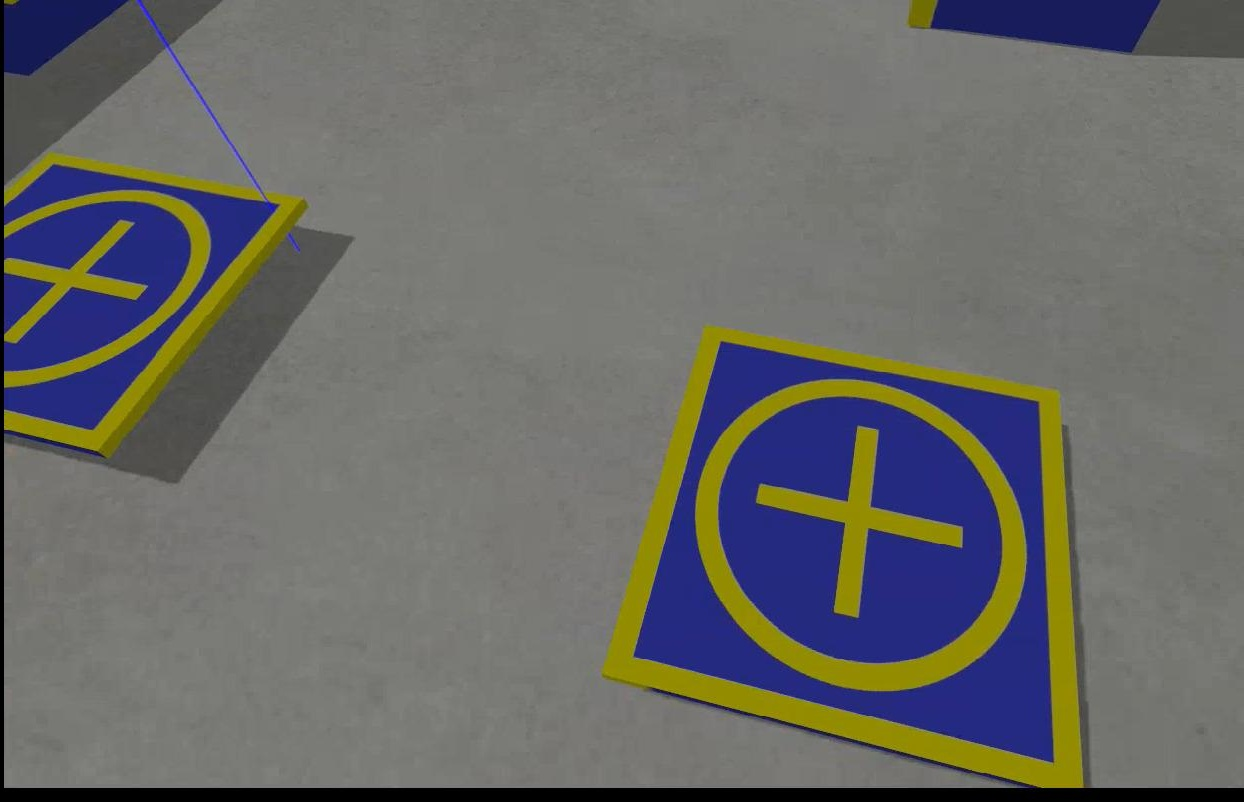small_base: (598, 328, 1088, 785), (1, 149, 305, 455)
